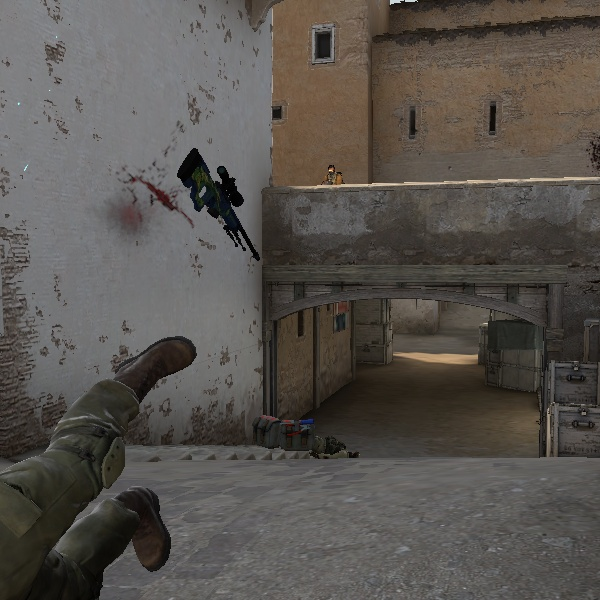t_body: (317, 164, 351, 186)
t_head: (327, 164, 337, 177)
